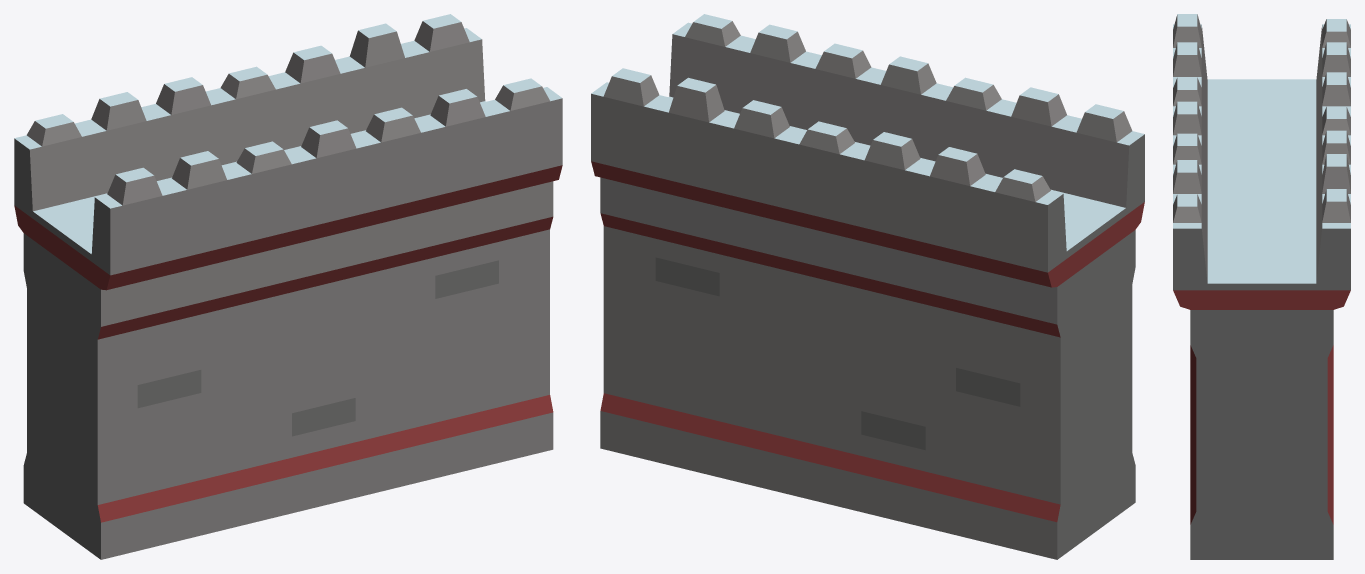
File: SM_Bld_Knights_Castle_02_Snow.fbx
The picture shows the model from 3 angles, left to right: view 1: azimuth 30°, elevation 25°; view 2: azimuth 150°, elevation 25°; view 3: azimuth 270°, elevation 25°; orthographic projection. The views are drawn at different scales.
Parts seen in each view (by area): view 1: SM_Bld_Knights_Castle_02_Snow; view 2: SM_Bld_Knights_Castle_02_Snow; view 3: SM_Bld_Knights_Castle_02_Snow.
Boxes of the visible parts, <box> form: SM_Bld_Knights_Castle_02_Snow: <box>14,14,562,559</box>; SM_Bld_Knights_Castle_02_Snow: <box>591,14,1144,559</box>; SM_Bld_Knights_Castle_02_Snow: <box>1173,14,1350,559</box>.
Bounding box in the file's own units: 154 × 125 × 56.51.
Materials: 1 (1 with a texture image).
